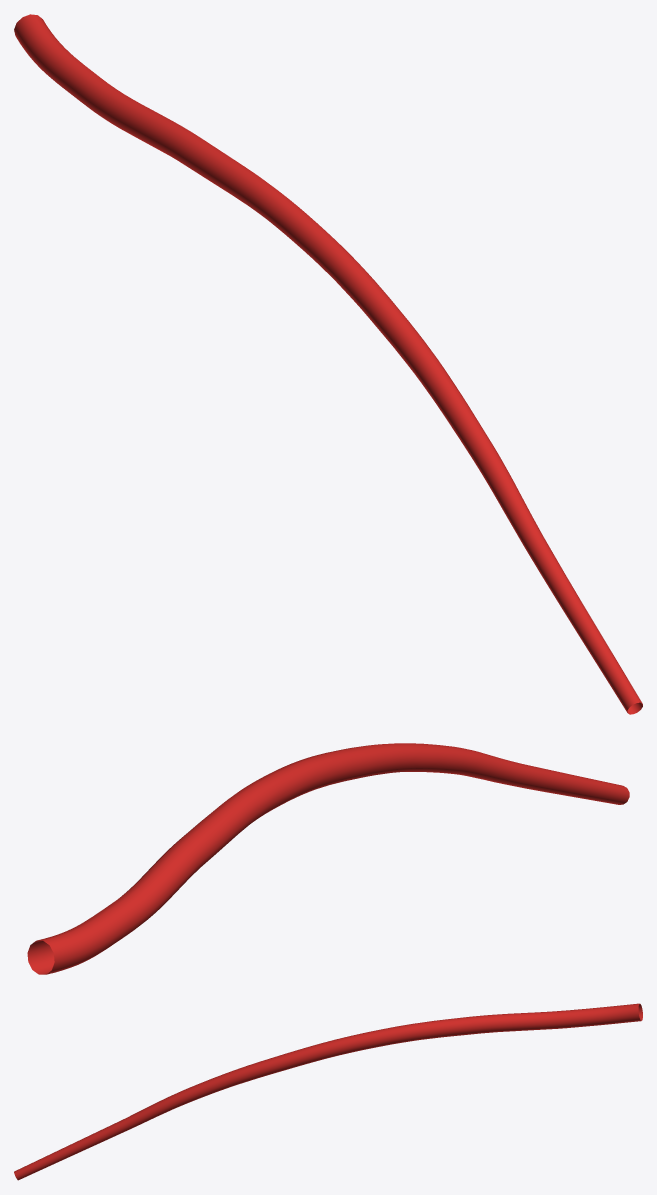
The model's file is circulatorio-superficial-branch-of-medial-plantar-artery-l.glb.
The picture shows the model from 3 angles, top to bottom: view 1: azimuth 30°, elevation 25°; view 2: azimuth 150°, elevation 25°; view 3: azimuth 270°, elevation 25°; orthographic projection. The views are drawn at different scales.
Parts seen in each view (by area): view 1: Superficial branch of medial plantar artery.l; view 2: Superficial branch of medial plantar artery.l; view 3: Superficial branch of medial plantar artery.l.
Part boxes in pixels (<box>): Superficial branch of medial plantar artery.l: <box>14,14,642,714</box>; Superficial branch of medial plantar artery.l: <box>27,743,629,974</box>; Superficial branch of medial plantar artery.l: <box>14,1003,642,1180</box>.
Bounding box in the file's own units: 0.00473 × 0.0184 × 0.0636.
